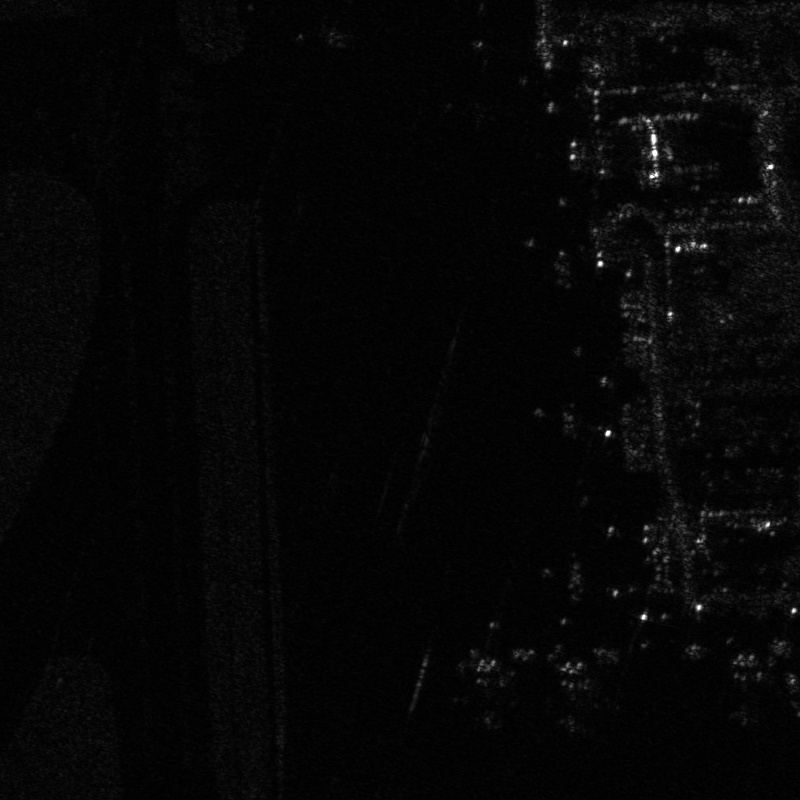A320/321: (444, 651, 523, 734)
Boeing737: (528, 651, 631, 741), (709, 641, 785, 732)
other: (291, 14, 354, 52)
